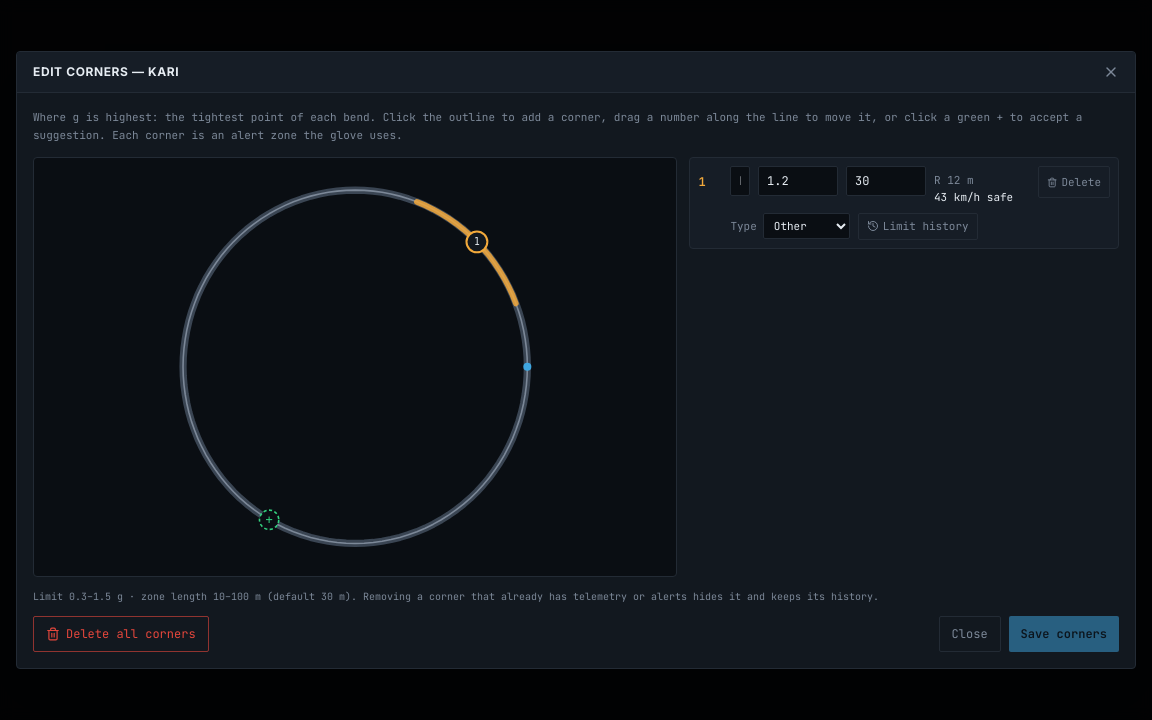
CornerEditorDialog (editable map) › opens the limit history of a saved corner and lists the changes
Check: the element with test id "corner-marker-table" is shown, box [689,157,1119,249]
Click the button with test id "marker-history-1".
click(918, 226)  # box [858,213,978,240]
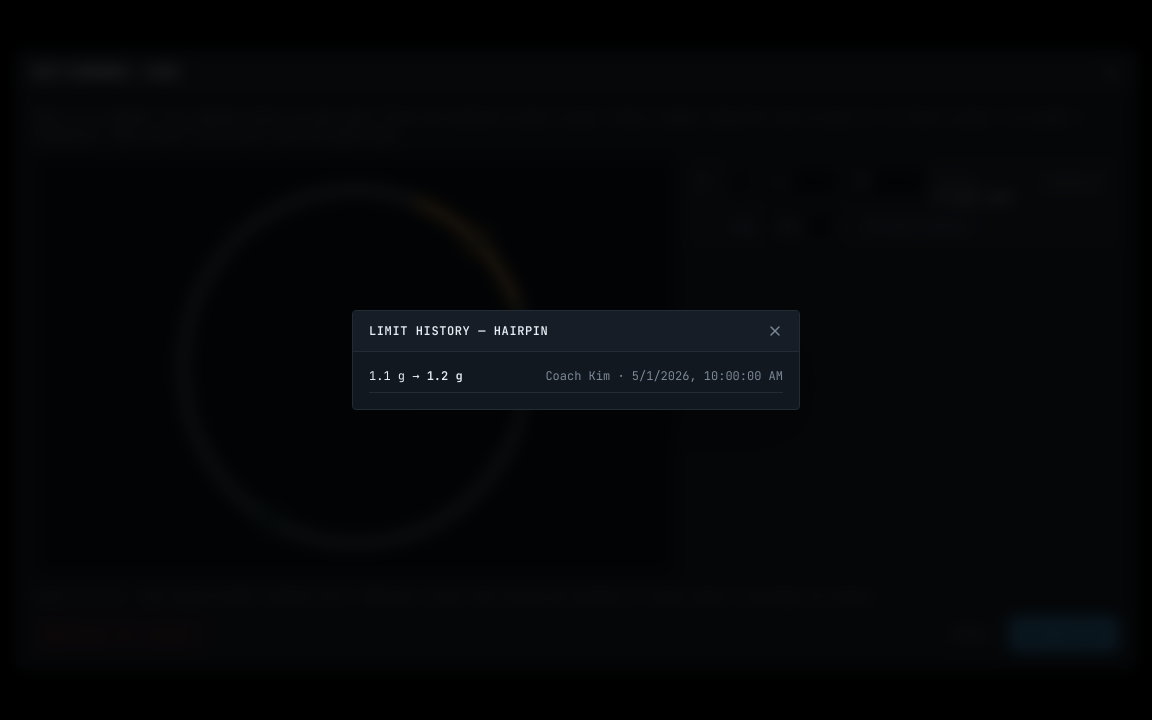
Check: the list with test id "history-list" shows "Coach Kim", box [545,368,610,384]
Click the button named "Close history".
click(775, 331)  # box [767,323,783,339]
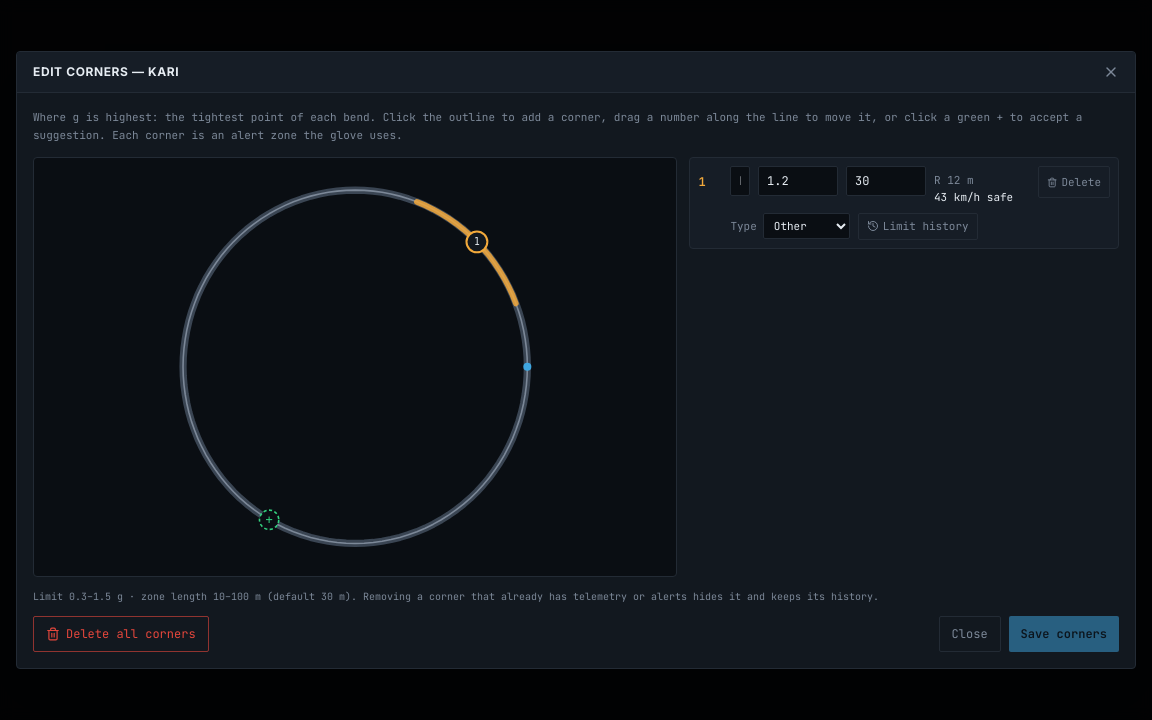
Check: the dialog with test id "limit-history-dialog" is gone
